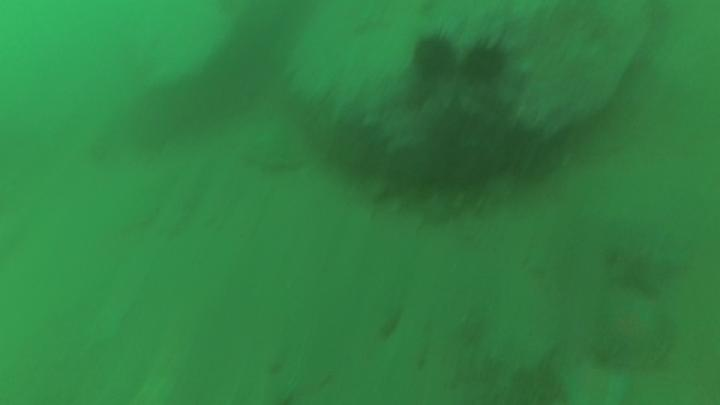echinus: (405, 28, 460, 83), (461, 33, 511, 92)
starfish: (613, 235, 683, 306)
